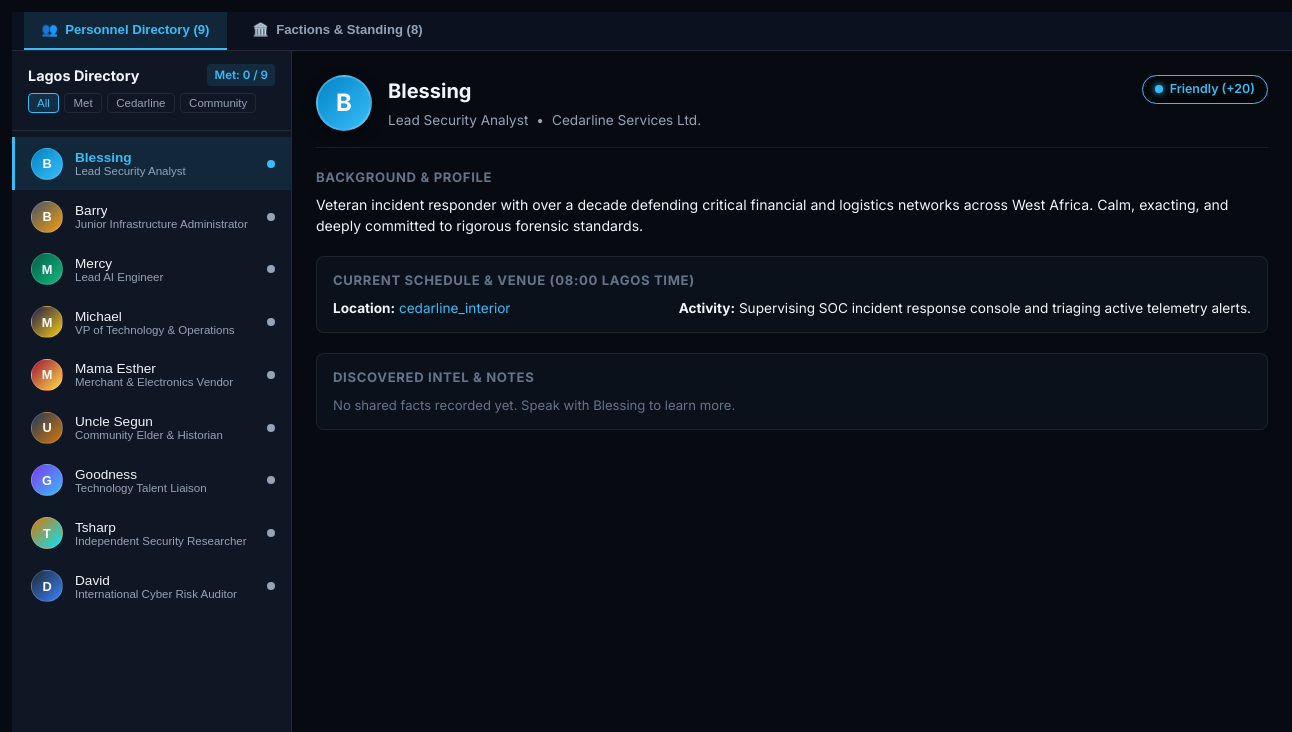
Test: Playable Narrative End-to-End Gameplay & Branching Audit › renders updated faction standings, active narrative chapter, and audit history in ContactsApp
Step 1. Click the button with test id "tab-btn-factions" → (338, 31), box x1=235 y1=12 x2=440 y2=50
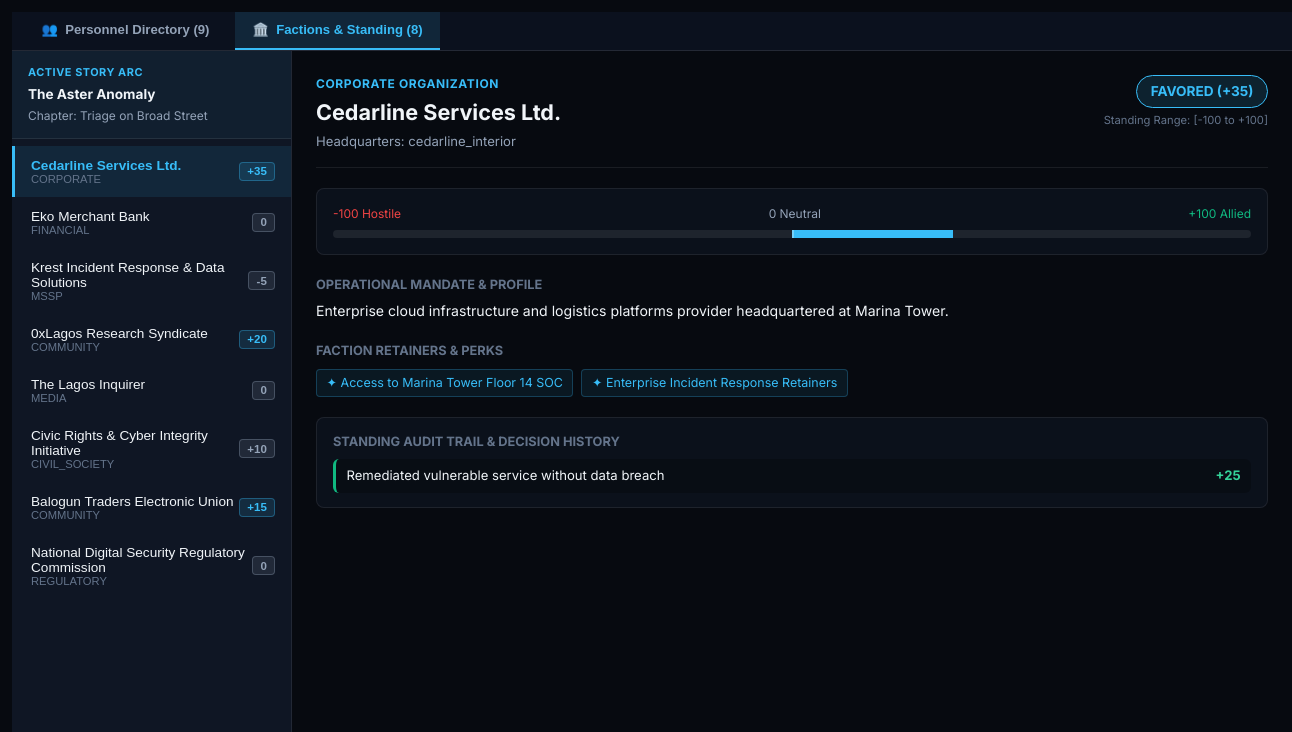
Check: the text "The Aster Anomaly" is shown, box x1=28 y1=86 x2=155 y2=102
Check: the text with test id "narrative-active-chapter" shows "Triage on Broad Street", box x1=80 y1=108 x2=208 y2=123
Check: the button with test id "faction-item-faction_cedarline" shows "Cedarline Services Ltd.", box x1=12 y1=146 x2=291 y2=197
Step 2. Click the button with test id "faction-item-faction_0xlagos" → (152, 339), box x1=12 y1=314 x2=291 y2=365
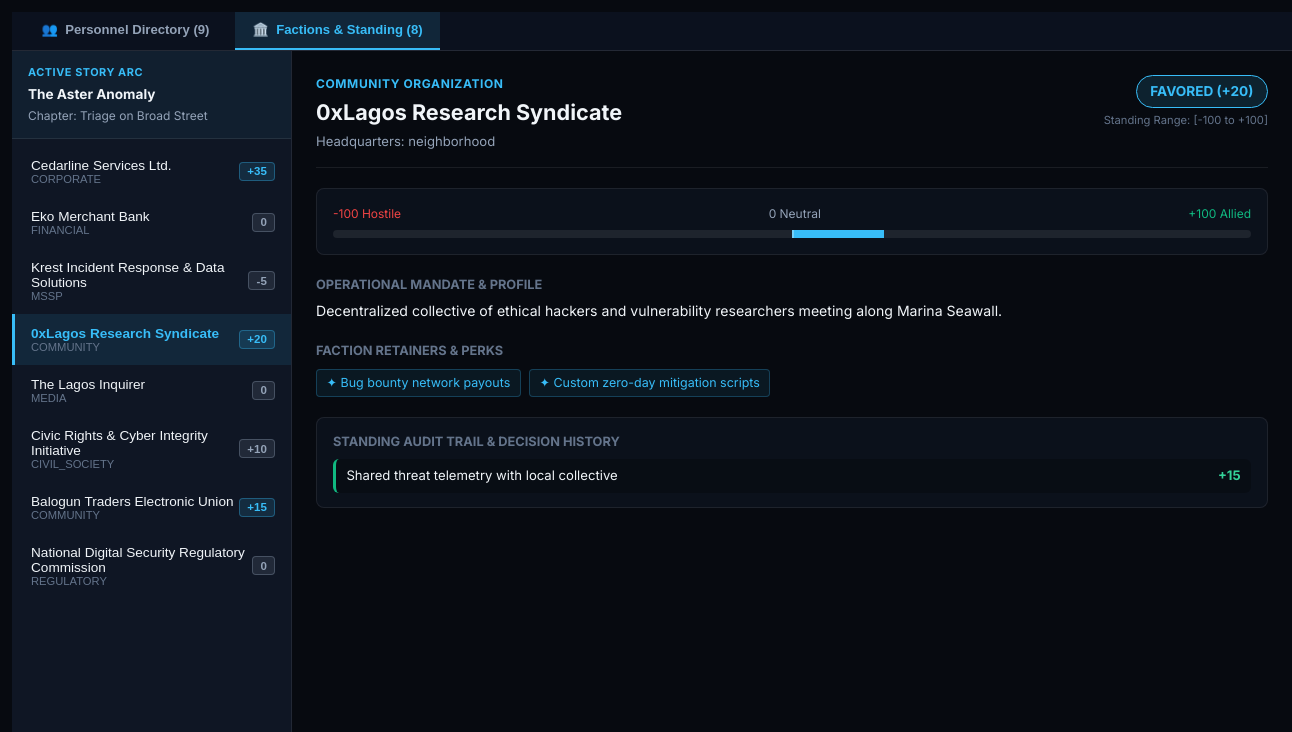
Check: the heading with test id "faction-title" reads "0xLagos Research Syndicate", box x1=316 y1=99 x2=622 y2=125
Check: the element with test id "faction-standing-badge" shows "FAVORED (+20)", box x1=1104 y1=75 x2=1268 y2=129
Select Cedarline again to view its audit history
Step 3. Click the button with test id "faction-item-faction_cedarline" → (152, 171), box x1=12 y1=146 x2=291 y2=197
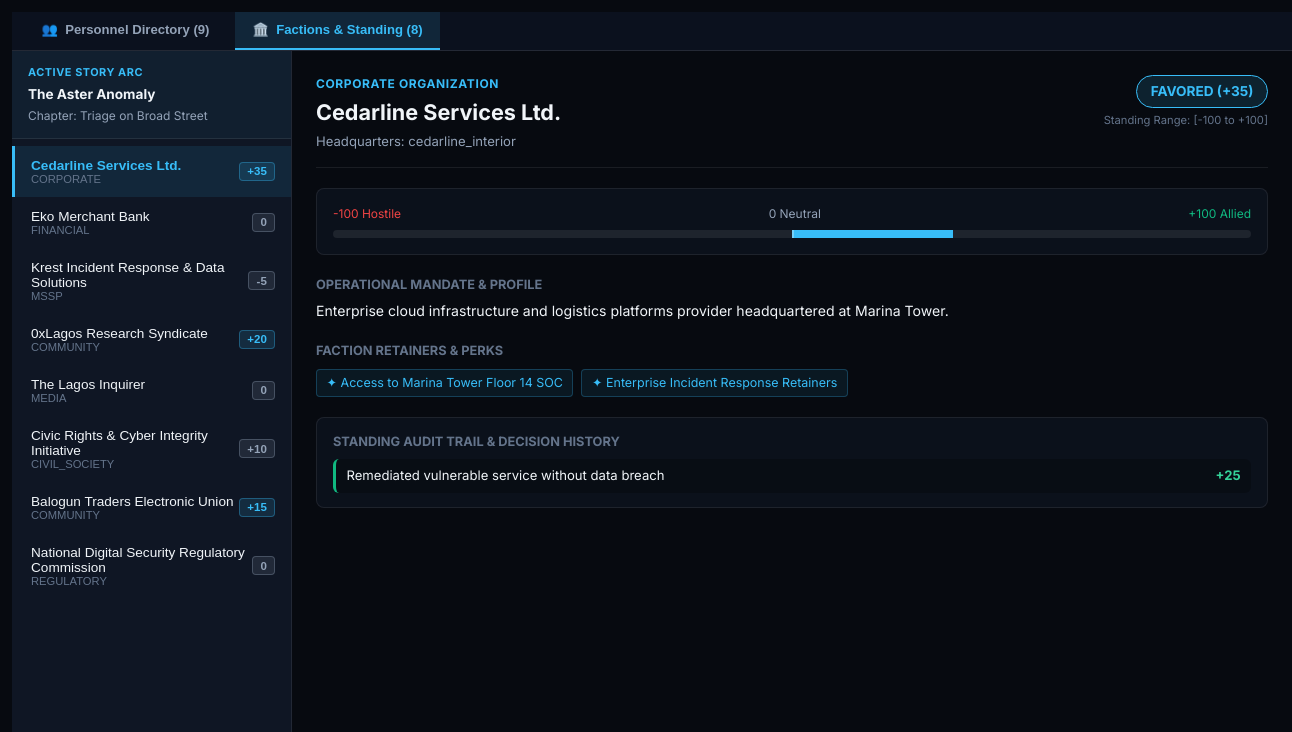
Check: the heading "Standing Audit Trail & Decision History" is shown, box x1=333 y1=434 x2=620 y2=449
Check: the text "Remediated vulnerable service without data breach" is shown, box x1=346 y1=466 x2=664 y2=486
